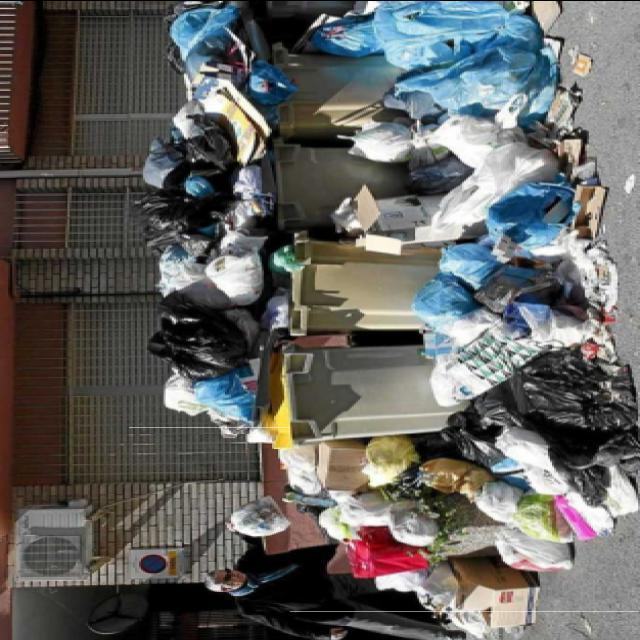Trashbag: (144, 289, 252, 390), (529, 360, 626, 424), (440, 396, 528, 464), (127, 183, 211, 244)
